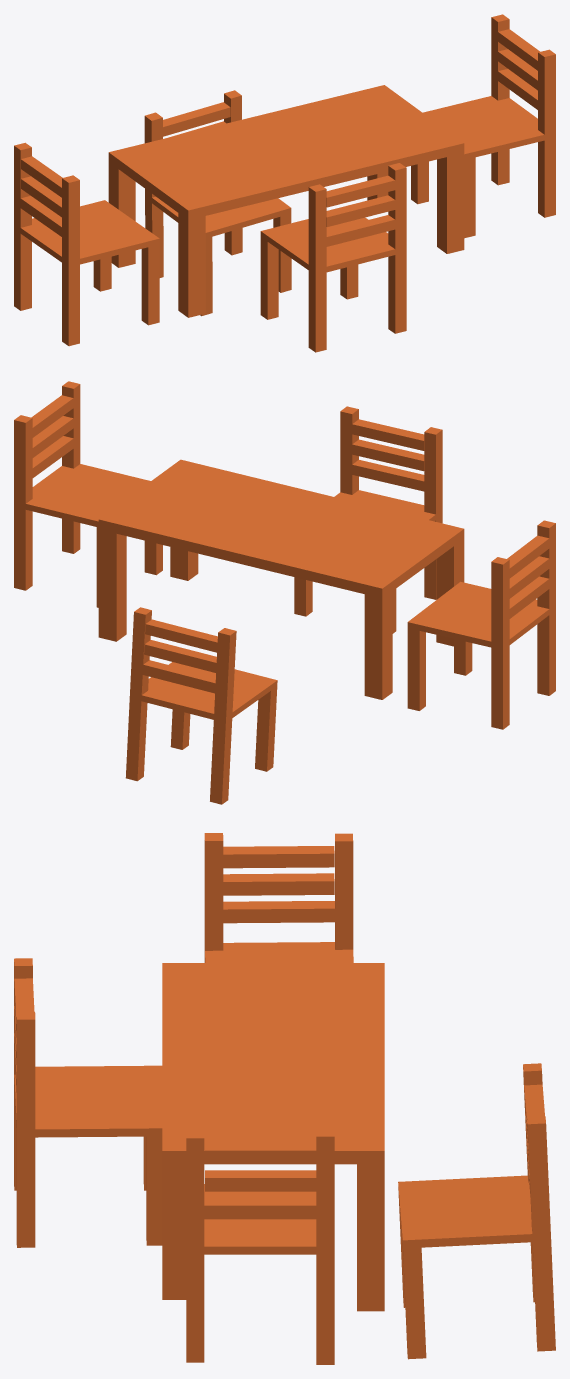
Rendered from table&chair.glb.
3 renders of one model, top to bottom at view 1: azimuth 30°, elevation 25°; view 2: azimuth 150°, elevation 25°; view 3: azimuth 270°, elevation 25°, orthographic. The views are drawn at different scales.
Visible parts, largest first — view 1: Cube, Cube.002, Cube.004, Cube.001, Cube.003; view 2: Cube, Cube.003, Cube.004, Cube.001, Cube.002; view 3: Cube, Cube.001, Cube.002, Cube.003, Cube.004.
Boxes of the visible parts, x1,y1,x2,y2 form: Cube: [108, 85, 464, 317]; Cube.002: [260, 163, 406, 352]; Cube.004: [14, 142, 159, 346]; Cube.001: [411, 14, 555, 238]; Cube.003: [144, 90, 291, 316]; Cube: [98, 459, 464, 699]; Cube.003: [125, 607, 277, 804]; Cube.004: [407, 520, 555, 729]; Cube.001: [14, 381, 162, 607]; Cube.002: [294, 406, 442, 633]; Cube: [162, 963, 384, 1311]; Cube.001: [186, 1129, 334, 1364]; Cube.002: [14, 958, 162, 1247]; Cube.003: [398, 1063, 555, 1359]; Cube.004: [204, 833, 353, 962].
Bounding box in the file's own units: 5.24 × 2.62 × 3.65.
